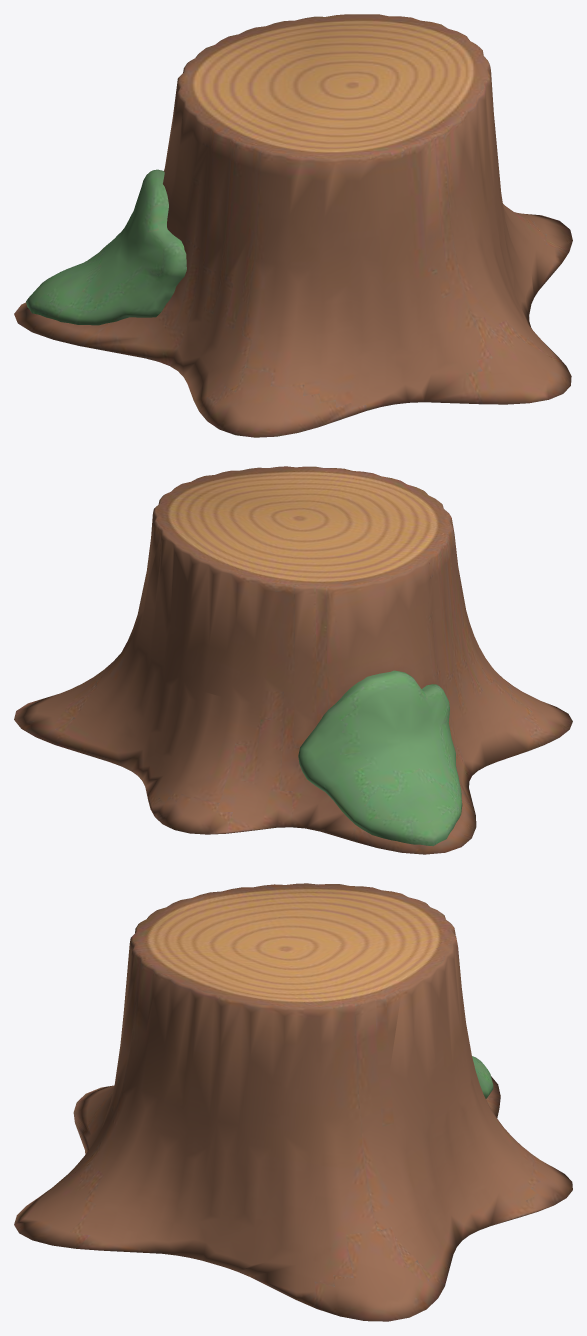
The model's file is tree-stump.glb.
The picture shows the model from 3 angles, top to bottom: view 1: azimuth 30°, elevation 25°; view 2: azimuth 150°, elevation 25°; view 3: azimuth 270°, elevation 25°; orthographic projection. The views are drawn at different scales.
Visible parts, largest first — view 1: tree-stump_body; view 2: tree-stump_body; view 3: tree-stump_body.
Boxes of the visible parts, <box> form: tree-stump_body: <box>14,14,572,437</box>; tree-stump_body: <box>14,466,572,854</box>; tree-stump_body: <box>14,883,572,1321</box>.
Size of the model in its own units: 1.07 by 0.484 by 0.9809.
1 material, 1 textured.
